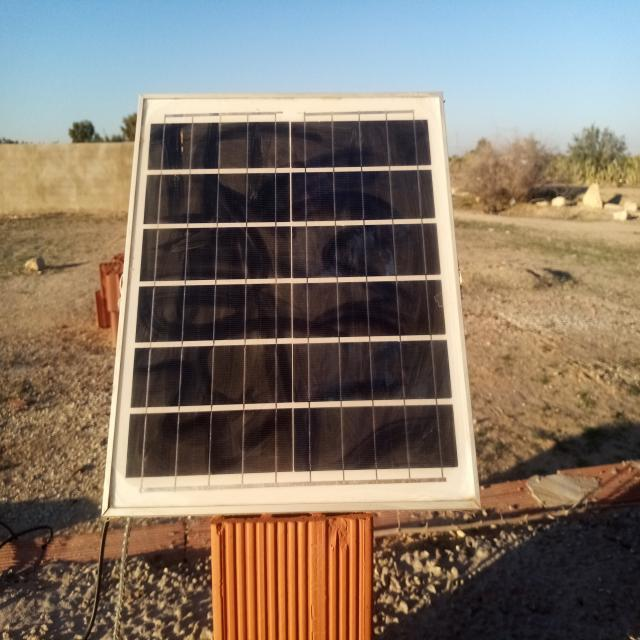faulty: (109, 96, 477, 511)
